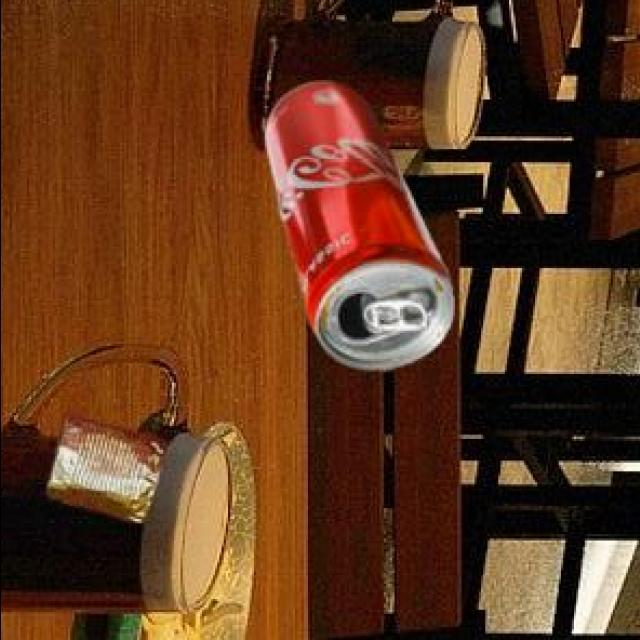logam: (267, 85, 455, 373), (49, 416, 168, 524)
